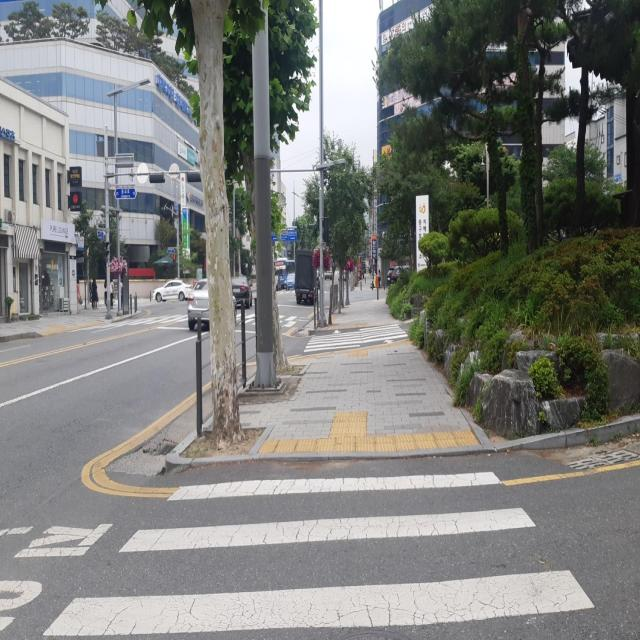횡단보도: (41, 466, 596, 640), (301, 318, 415, 362)
